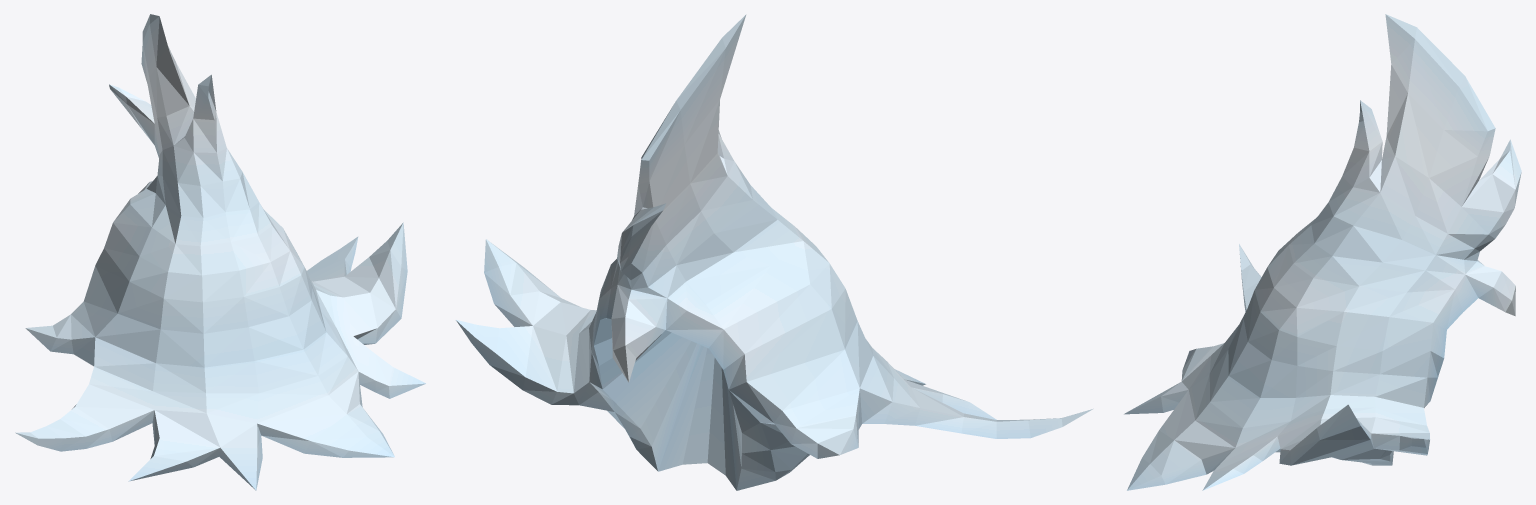
The model's file is CharSkyKid_Hair_APMusician_01.glb.
3 views of the same model, side by side, from view 1: azimuth 30°, elevation 25°; view 2: azimuth 150°, elevation 25°; view 3: azimuth 270°, elevation 25° (orthographic). The views are drawn at different scales.
Parts seen in each view (by area): view 1: CharSkyKid_Hair_APMusician_01; view 2: CharSkyKid_Hair_APMusician_01; view 3: CharSkyKid_Hair_APMusician_01.
Boxes of the visible parts, left/top/right/bottom form: CharSkyKid_Hair_APMusician_01: left=15, top=14, right=425, bottom=490; CharSkyKid_Hair_APMusician_01: left=456, top=14, right=1093, bottom=490; CharSkyKid_Hair_APMusician_01: left=1124, top=14, right=1521, bottom=490.
Size of the model in its own units: 6.9 by 5.74 by 4.99.
Materials: 1 (1 with a texture image).
